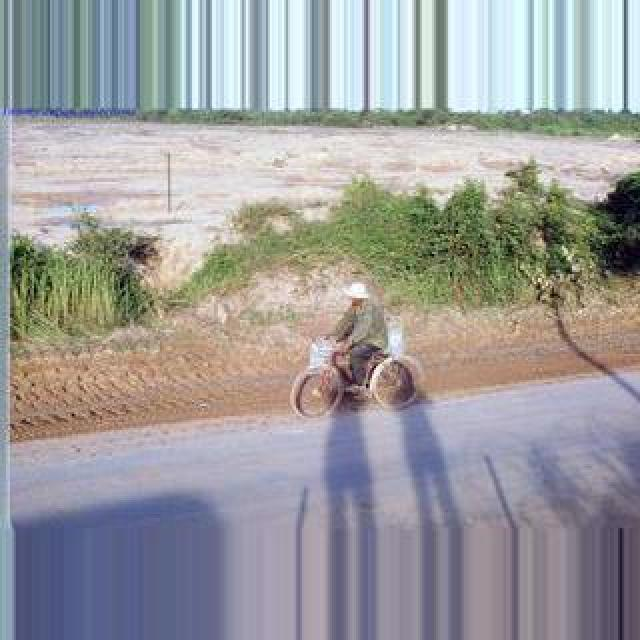MC-Bike: (326, 284, 390, 396)
Person: (292, 332, 422, 420)
